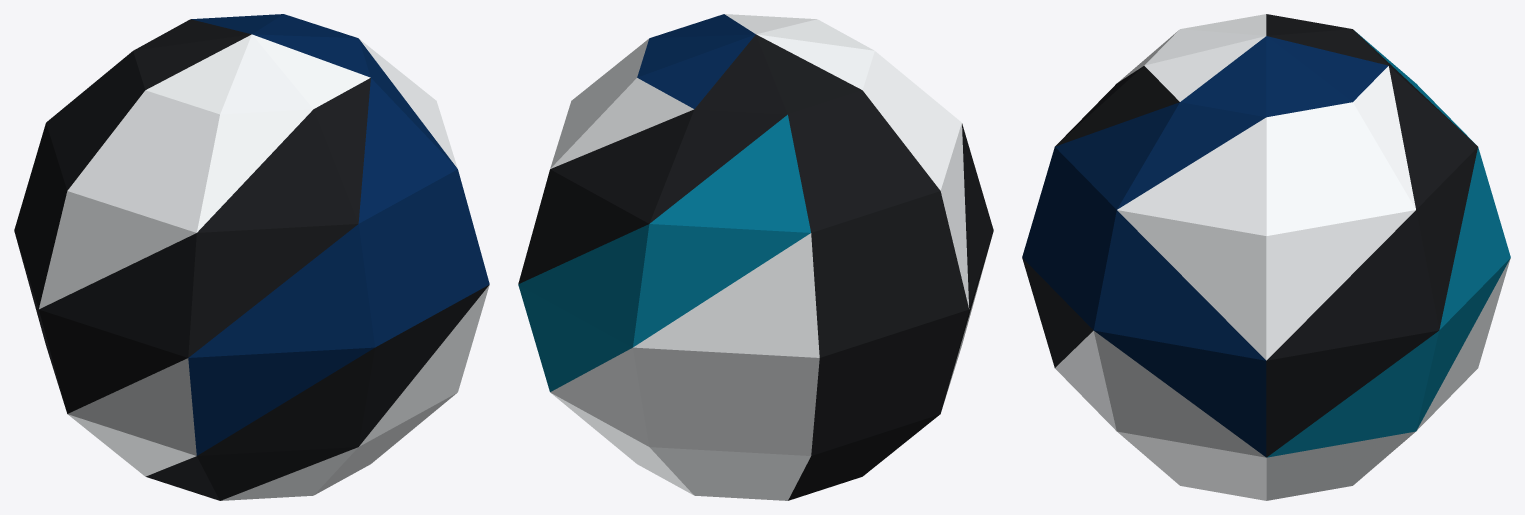
Rendered from space_rock.gltf.
The picture shows the model from 3 angles, left to right: view 1: azimuth 30°, elevation 25°; view 2: azimuth 150°, elevation 25°; view 3: azimuth 270°, elevation 25°; orthographic projection.
Visible parts, largest first — view 1: space_rock; view 2: space_rock; view 3: space_rock.
Boxes of the visible parts, <box> form: space_rock: <box>14,14,489,500</box>; space_rock: <box>518,14,993,500</box>; space_rock: <box>1022,14,1510,500</box>.
Bounding box in the file's own units: 2 × 2 × 2.
